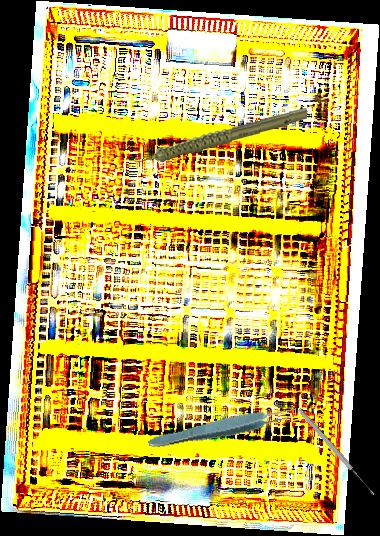Handpiece: (126, 105, 309, 166)
Surgical Spoon: (297, 407, 376, 497)
Tissue Forceps: (146, 402, 300, 454)
